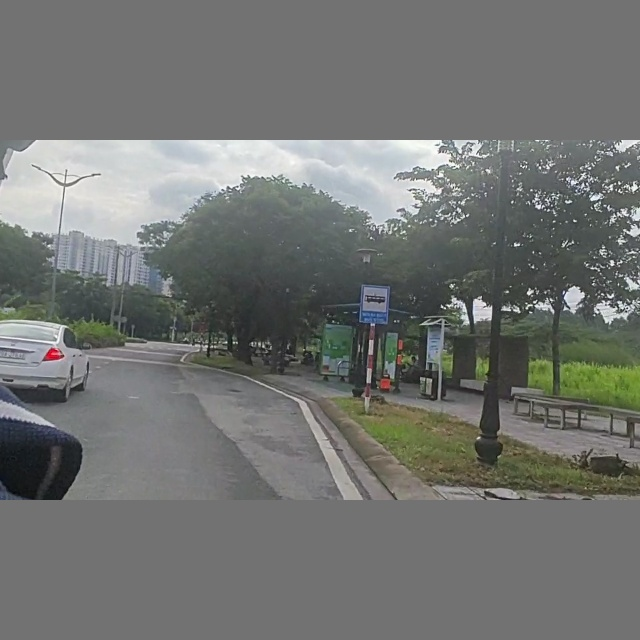I.434a: (357, 281, 393, 331)
